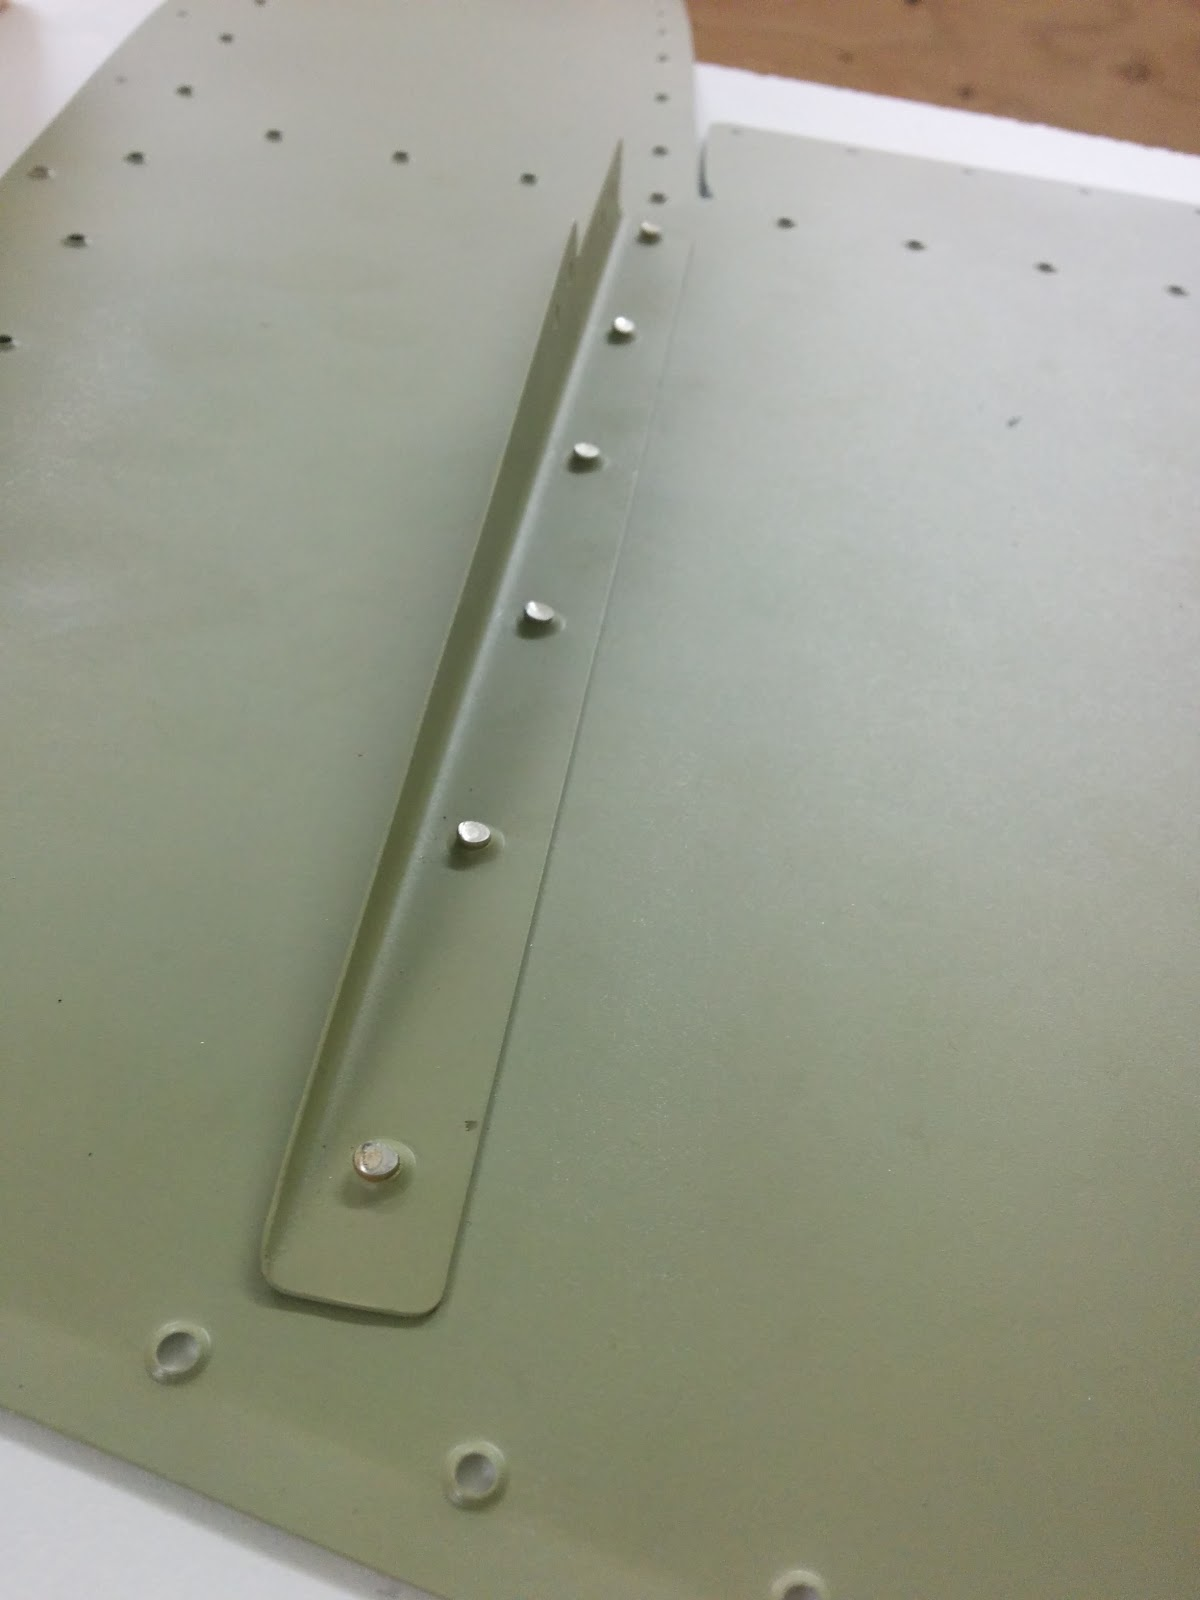bolt: (344, 1129, 416, 1204), (444, 816, 495, 864), (563, 435, 613, 476), (517, 598, 558, 637), (597, 314, 638, 351), (630, 218, 667, 251)
hole: (55, 226, 97, 254), (378, 144, 416, 173), (509, 165, 542, 197), (260, 120, 292, 151), (118, 141, 149, 174), (1029, 257, 1063, 283), (766, 210, 798, 237), (901, 229, 930, 257), (642, 186, 674, 210), (168, 81, 200, 105), (645, 84, 671, 113), (1162, 276, 1191, 301), (647, 141, 678, 163), (212, 28, 236, 52)
rivet: (432, 1430, 519, 1516), (135, 1315, 217, 1395)
